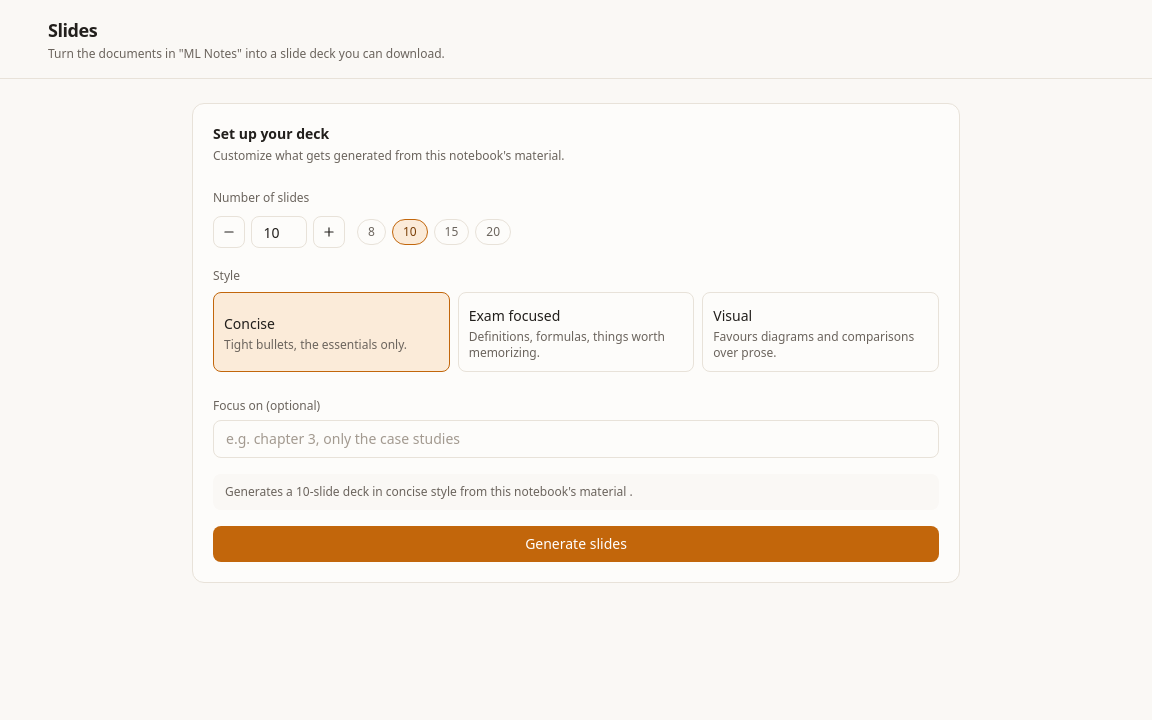
Test: SlidesView › surfaces a 409 from the backend when generation is already running
Check: the heading "Set up your deck" is shown, box top-left (213, 124), bottom-right (329, 143)
Click the button "Generate slides": (576, 544) top-left (213, 526), bottom-right (939, 562)
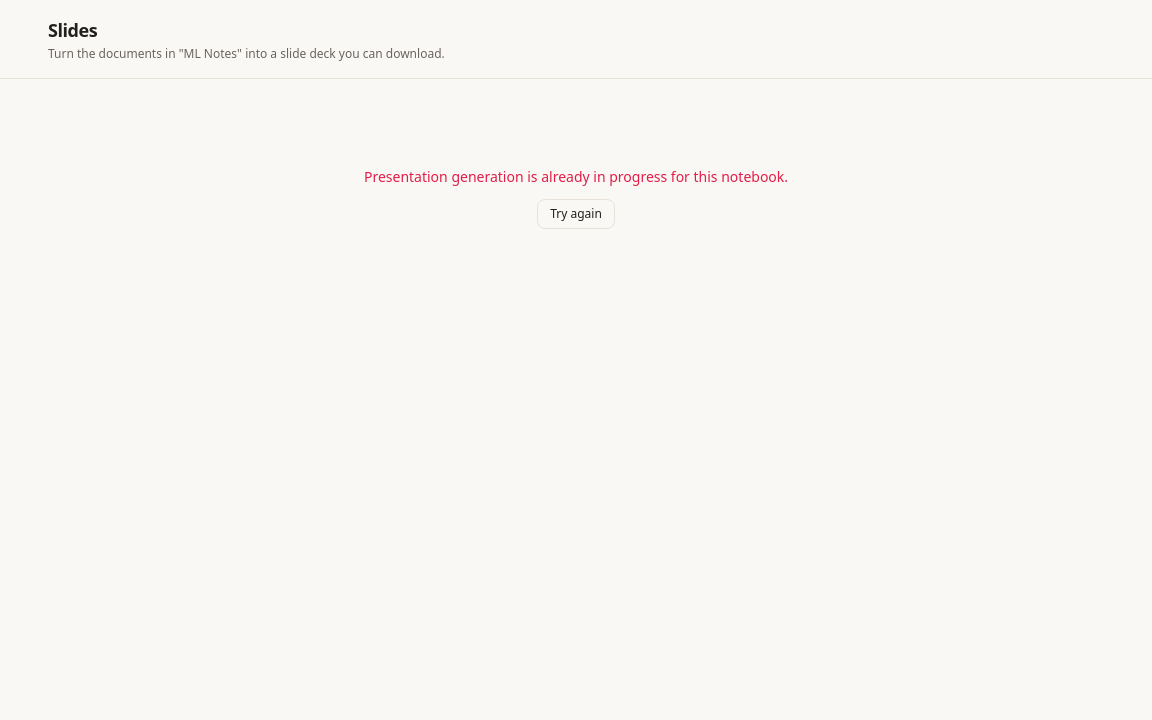
Check: the message shows "already in progress", box top-left (364, 167), bottom-right (788, 186)
